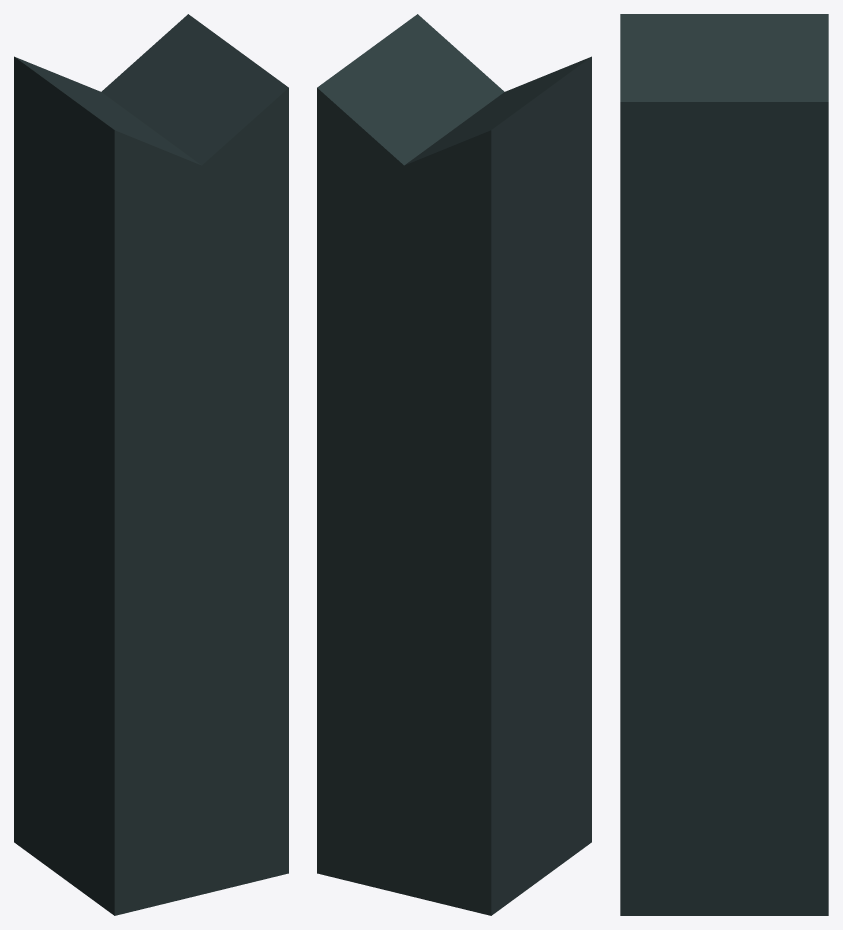
File: SM_Factory_Pipe_Support.glb
3 views of the same model, side by side, from view 1: azimuth 30°, elevation 25°; view 2: azimuth 150°, elevation 25°; view 3: azimuth 270°, elevation 25° (orthographic). The views are drawn at different scales.
Parts seen in each view (by area): view 1: SM_Factory_Pipe_Support; view 2: SM_Factory_Pipe_Support; view 3: SM_Factory_Pipe_Support.
Boxes of the visible parts, x1,y1,x2,y2 form: SM_Factory_Pipe_Support: (14, 14, 288, 915); SM_Factory_Pipe_Support: (317, 14, 591, 915); SM_Factory_Pipe_Support: (620, 14, 828, 915).
Bounding box in the file's own units: 0.3381 × 1.46 × 0.3381.
Materials: 1 (1 with a texture image).
